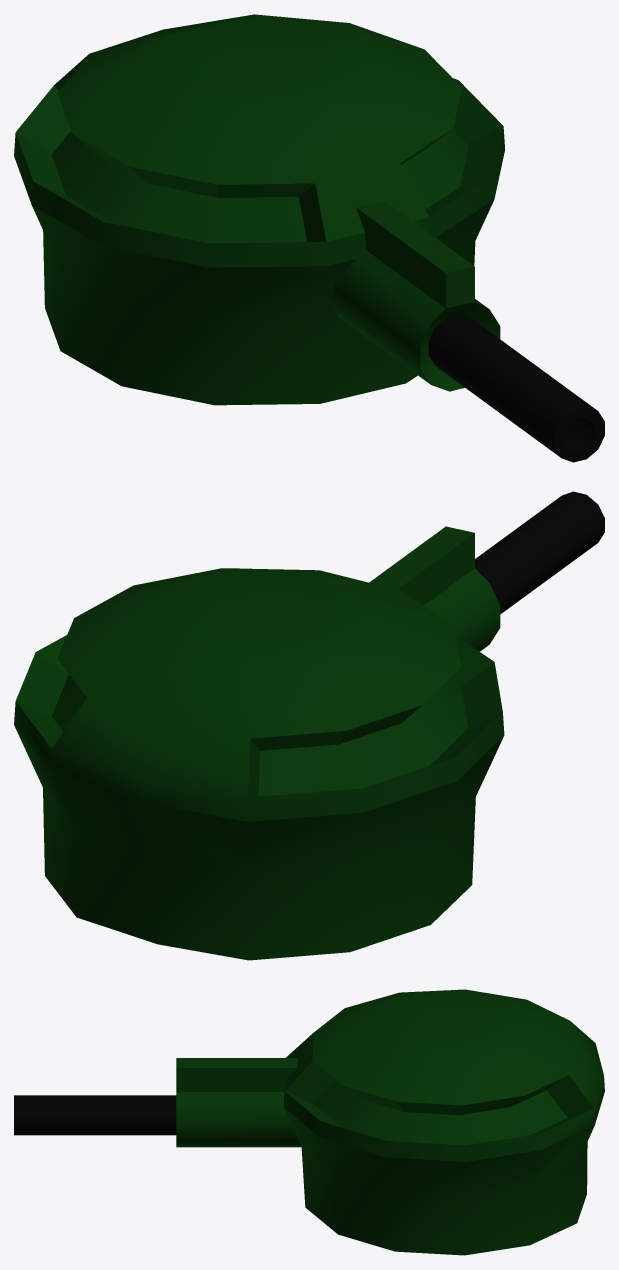
The model's file is Lucy Launcher.FBX.
The picture shows the model from 3 angles, top to bottom: view 1: azimuth 30°, elevation 25°; view 2: azimuth 150°, elevation 25°; view 3: azimuth 270°, elevation 25°; orthographic projection. The views are drawn at different scales.
Parts seen in each view (by area): view 1: Lucy Launcher, Lucy Barrel; view 2: Lucy Launcher, Lucy Barrel; view 3: Lucy Launcher, Lucy Barrel.
Boxes of the visible parts, left/top/right/bottom form: Lucy Launcher: left=14, top=14, right=504, bottom=405; Lucy Barrel: left=428, top=314, right=604, bottom=462; Lucy Launcher: left=14, top=526, right=504, bottom=960; Lucy Barrel: left=475, top=491, right=604, bottom=614; Lucy Launcher: left=176, top=989, right=604, bottom=1255; Lucy Barrel: left=14, top=1095, right=176, bottom=1135.
Size of the model in its own units: 189 by 107 by 335.
